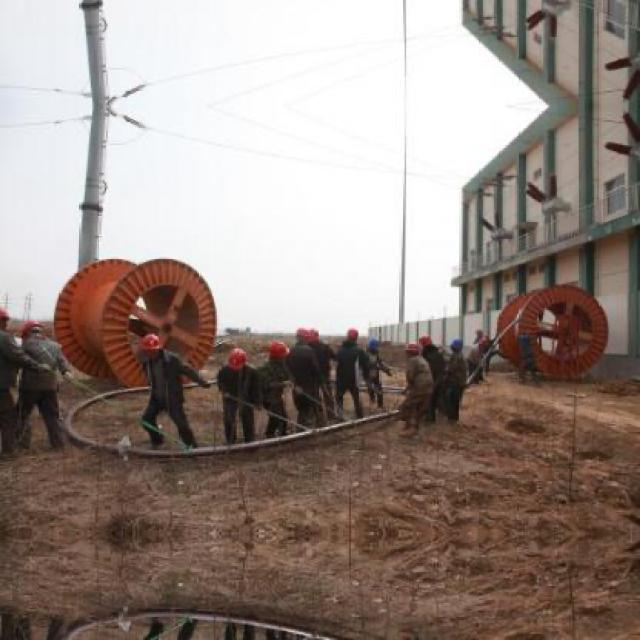helmet: (222, 346, 250, 372), (20, 320, 46, 346), (142, 330, 166, 358), (263, 339, 289, 361), (342, 325, 363, 347), (1, 304, 14, 336), (405, 339, 423, 358), (368, 333, 384, 353), (451, 335, 466, 353), (420, 333, 434, 349)
